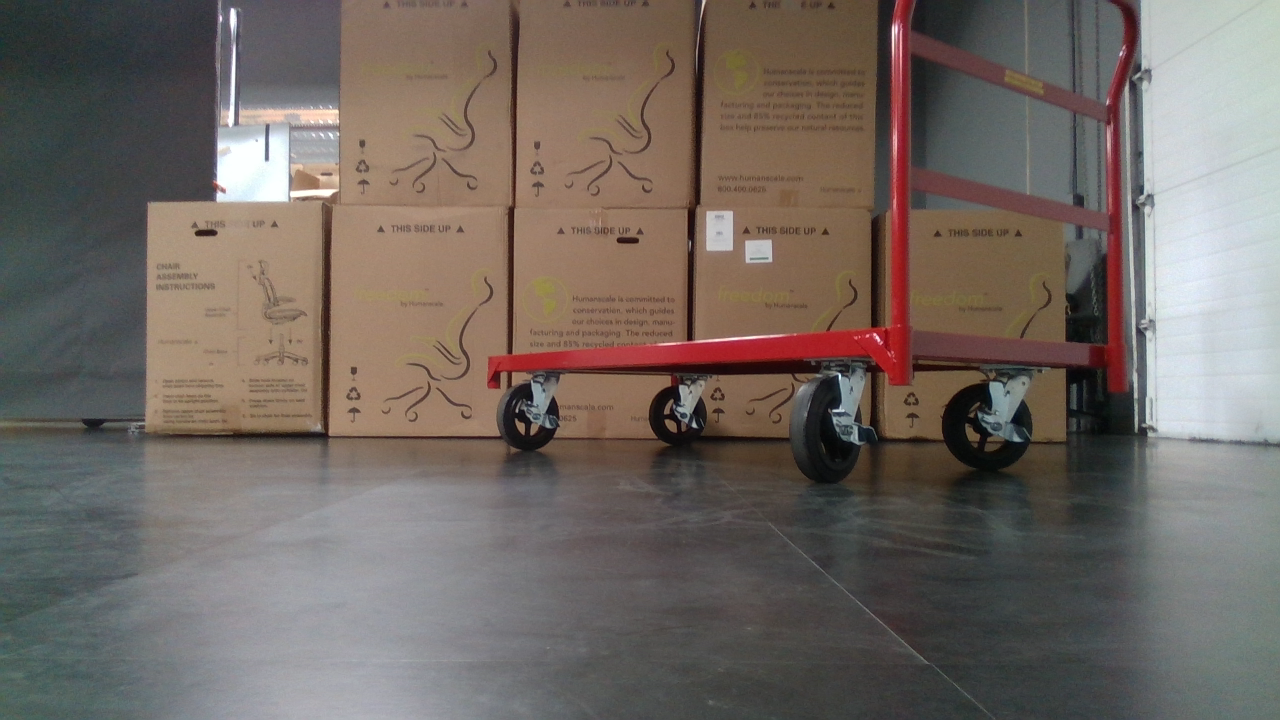Dolly: (487, 0, 1141, 485)
Wheel: (784, 373, 879, 484), (938, 380, 1036, 472), (497, 379, 561, 451), (645, 383, 710, 445)
